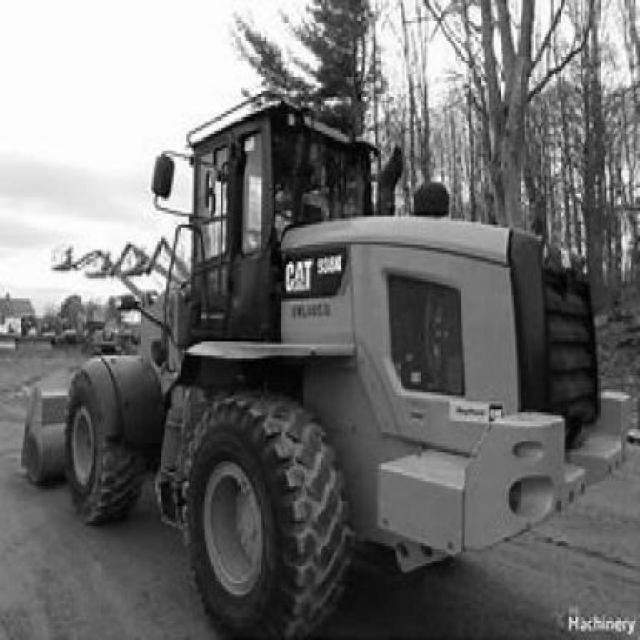Construction Equipment: (21, 104, 631, 640)
